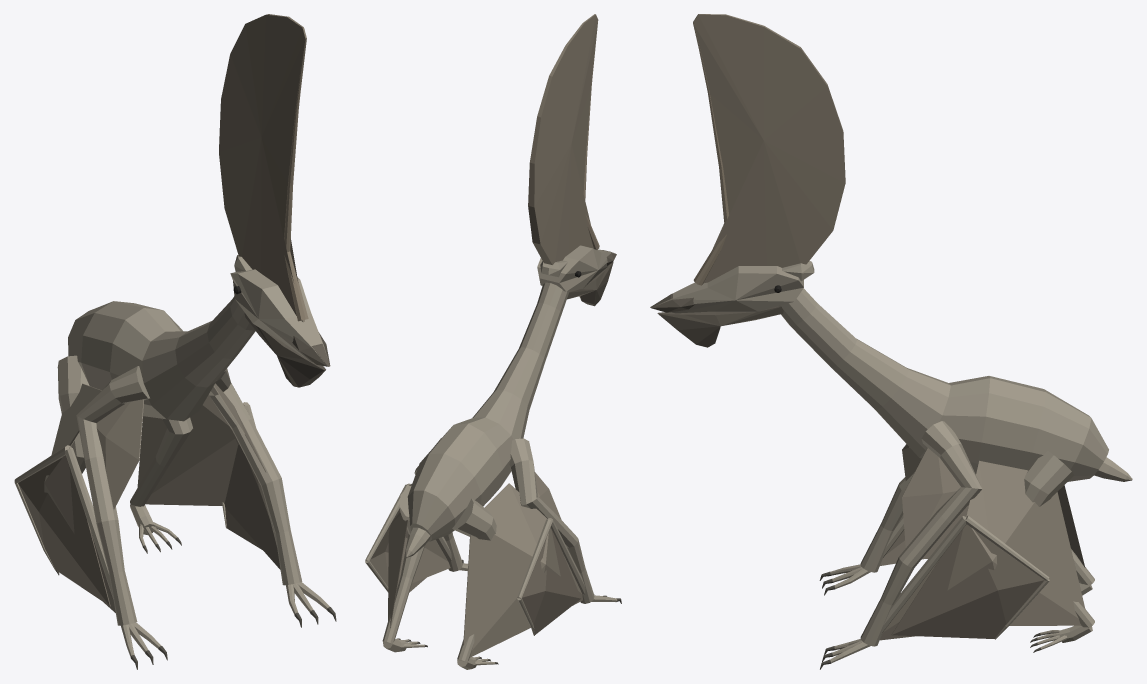
3 renders of one model, left to right at view 1: azimuth 30°, elevation 25°; view 2: azimuth 150°, elevation 25°; view 3: azimuth 270°, elevation 25°, orthographic. The views are drawn at different scales.
Parts seen in each view (by area): view 1: upright-thin-soft-crest, trunk-long-neck, right-folded-plagiopatagium, left-forelimb-humerus-ulna-metacarpalIV, left-narrow-distal-wing-pleat, right-forelimb-humerus-ulna-metacarpalIV, skinned-cranium-short-rostrum, left-propatagial-transition, left-folded-plagiopatagium, right-hindlimb-femur-tibia, slender-anterior-crest-support, mandible-deep-dentary-blade (+5 smaller); view 2: trunk-long-neck, upright-thin-soft-crest, left-folded-plagiopatagium, left-narrow-distal-wing-pleat, left-forelimb-humerus-ulna-metacarpalIV, right-folded-plagiopatagium, skinned-cranium-short-rostrum, right-hindlimb-femur-tibia, left-hindlimb-femur-tibia, mandible-deep-dentary-blade, right-narrow-distal-wing-pleat, left-wing-digit-IV-phalanx-2 (+6 smaller); view 3: upright-thin-soft-crest, trunk-long-neck, right-folded-plagiopatagium, right-narrow-distal-wing-pleat, right-forelimb-humerus-ulna-metacarpalIV, skinned-cranium-short-rostrum, right-propatagial-transition, mandible-deep-dentary-blade, right-hindlimb-femur-tibia, left-forelimb-humerus-ulna-metacarpalIV, left-folded-plagiopatagium, right-wing-digit-IV-phalanx-1 (+2 smaller).
Boxes of the visible parts, bbox=[...] form: upright-thin-soft-crest: bbox=[219, 14, 306, 322]; trunk-long-neck: bbox=[68, 296, 255, 421]; right-folded-plagiopatagium: bbox=[137, 395, 280, 569]; left-forelimb-humerus-ulna-metacarpalIV: bbox=[76, 366, 149, 625]; left-narrow-distal-wing-pleat: bbox=[18, 457, 110, 606]; right-forelimb-humerus-ulna-metacarpalIV: bbox=[209, 368, 302, 585]; skinned-cranium-short-rostrum: bbox=[230, 269, 327, 362]; left-propatagial-transition: bbox=[96, 399, 143, 509]; left-folded-plagiopatagium: bbox=[44, 383, 115, 612]; right-hindlimb-femur-tibia: bbox=[130, 417, 192, 506]; slender-anterior-crest-support: bbox=[284, 38, 308, 321]; mandible-deep-dentary-blade: bbox=[244, 313, 325, 387]; trunk-long-neck: bbox=[407, 282, 569, 541]; upright-thin-soft-crest: bbox=[528, 14, 598, 264]; left-folded-plagiopatagium: bbox=[463, 483, 582, 657]; left-narrow-distal-wing-pleat: bbox=[522, 529, 581, 634]; left-forelimb-humerus-ulna-metacarpalIV: bbox=[509, 438, 594, 603]; right-folded-plagiopatagium: bbox=[388, 484, 450, 628]; skinned-cranium-short-rostrum: bbox=[537, 245, 614, 291]; right-hindlimb-femur-tibia: bbox=[382, 485, 425, 643]; left-hindlimb-femur-tibia: bbox=[452, 498, 496, 662]; mandible-deep-dentary-blade: bbox=[567, 261, 613, 306]; right-narrow-distal-wing-pleat: bbox=[370, 518, 426, 592]; left-wing-digit-IV-phalanx-2: bbox=[517, 519, 552, 598]; upright-thin-soft-crest: bbox=[693, 14, 845, 283]; trunk-long-neck: bbox=[778, 288, 1108, 481]; right-folded-plagiopatagium: bbox=[880, 460, 1085, 640]; right-narrow-distal-wing-pleat: bbox=[891, 529, 1044, 638]; right-forelimb-humerus-ulna-metacarpalIV: bbox=[860, 421, 982, 646]; skinned-cranium-short-rostrum: bbox=[656, 266, 803, 313]; right-propatagial-transition: bbox=[902, 448, 960, 547]; mandible-deep-dentary-blade: bbox=[657, 306, 783, 347]; right-hindlimb-femur-tibia: bbox=[1024, 450, 1094, 628]; left-forelimb-humerus-ulna-metacarpalIV: bbox=[860, 472, 914, 572]; left-folded-plagiopatagium: bbox=[880, 485, 1085, 567]; right-wing-digit-IV-phalanx-1: bbox=[881, 516, 966, 633].
Size of the model in its own units: 0.4014 by 1.27 by 0.9065.
